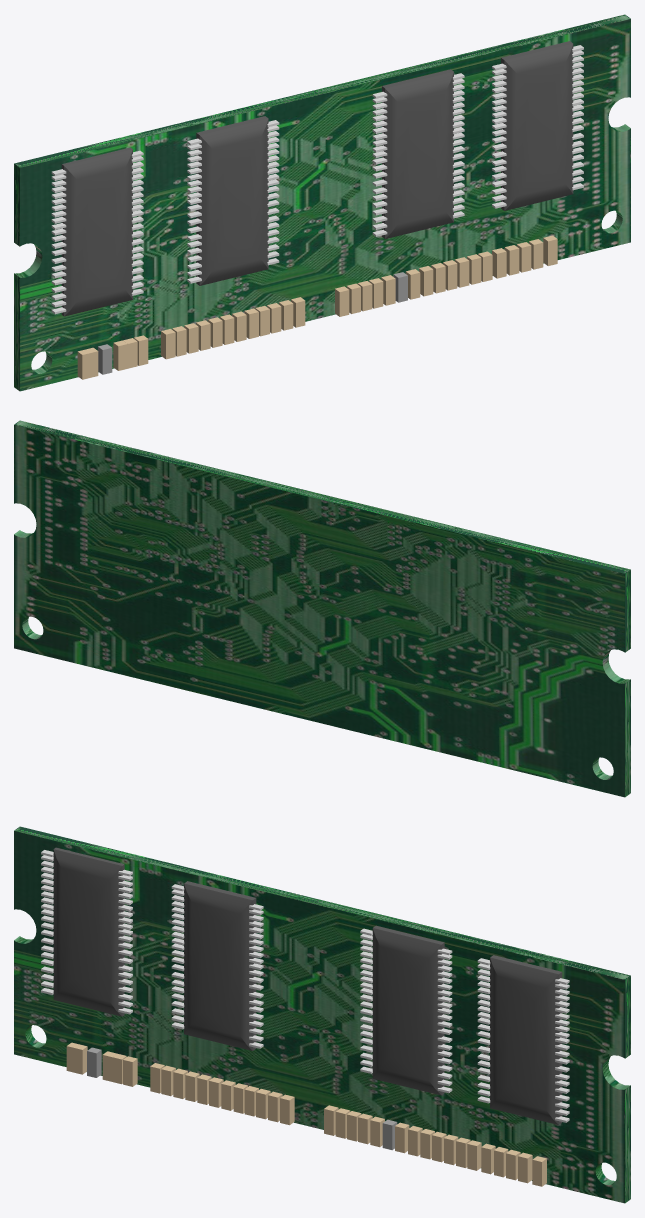
File: ram.fbx
3 views of the same model, one above another, from view 1: azimuth 30°, elevation 25°; view 2: azimuth 150°, elevation 25°; view 3: azimuth 330°, elevation 25° (orthographic).
Parts seen in each view (by area): view 1: pCube88, pCube87, rammo5, rammo1, rammo2, rammo; view 2: pCube88, pCube87; view 3: pCube88, rammo5, rammo2, rammo1, rammo, pCube87.
Part boxes in pixels (x1=…): pCube88: x1=14, y1=14, x2=630, y2=391; pCube87: x1=22, y1=133, x2=618, y2=390; rammo5: x1=492, y1=41, x2=583, y2=210; rammo1: x1=196, y1=116, x2=268, y2=285; rammo2: x1=382, y1=69, x2=453, y2=238; rammo: x1=61, y1=147, x2=132, y2=316; pCube88: x1=14, y1=420, x2=630, y2=797; pCube87: x1=37, y1=574, x2=624, y2=765; pCube88: x1=14, y1=826, x2=630, y2=1203; rammo5: x1=477, y1=955, x2=569, y2=1124; rammo2: x1=372, y1=925, x2=444, y2=1095; rammo1: x1=184, y1=881, x2=256, y2=1050; rammo: x1=53, y1=847, x2=124, y2=1016; pCube87: x1=20, y1=1055, x2=613, y2=1164.
Size of the model in its own units: 4.24 by 1.48 by 0.1703.
Materials: 5 (1 with a texture image).
